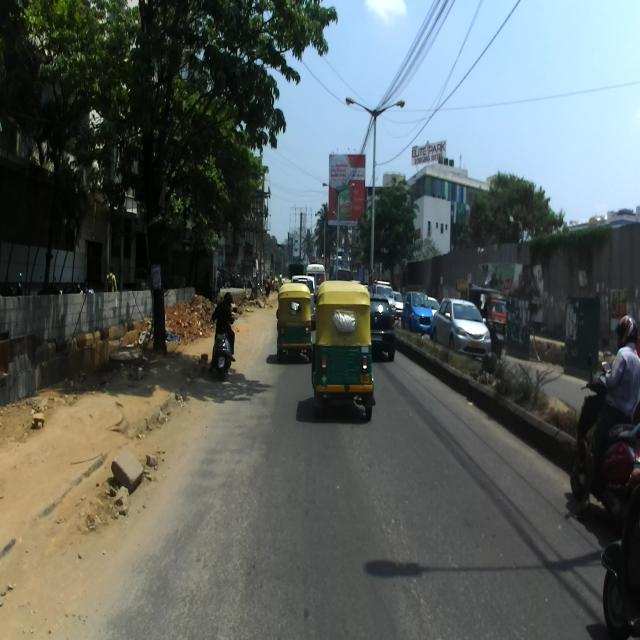auto ahead at: (313, 278, 377, 420)
tree ahead at: (29, 4, 198, 383)
